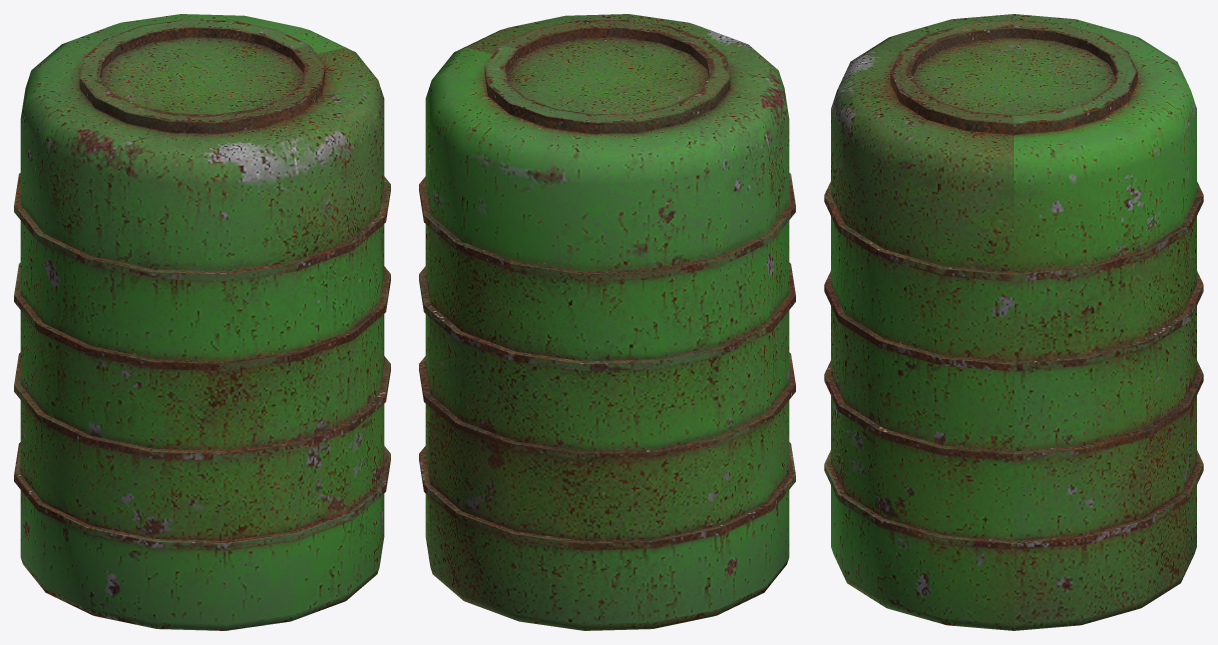
The model's file is Tank.fbx.
3 views of the same model, side by side, from view 1: azimuth 30°, elevation 25°; view 2: azimuth 150°, elevation 25°; view 3: azimuth 270°, elevation 25° (orthographic).
Visible parts, largest first — view 1: Tank; view 2: Tank; view 3: Tank.
Boxes of the visible parts, left/top/right/bottom form: Tank: left=14, top=14, right=390, bottom=630; Tank: left=419, top=14, right=795, bottom=630; Tank: left=824, top=14, right=1203, bottom=630.
Bounding box in the file's own units: 1.45 × 2.05 × 1.45.
